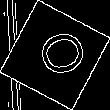O_W: (24, 27, 86, 83)
